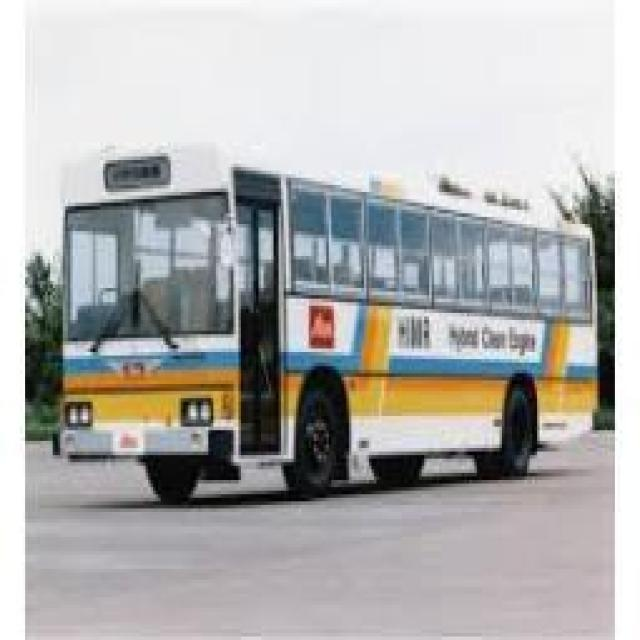Bus: (58, 150, 597, 508)
